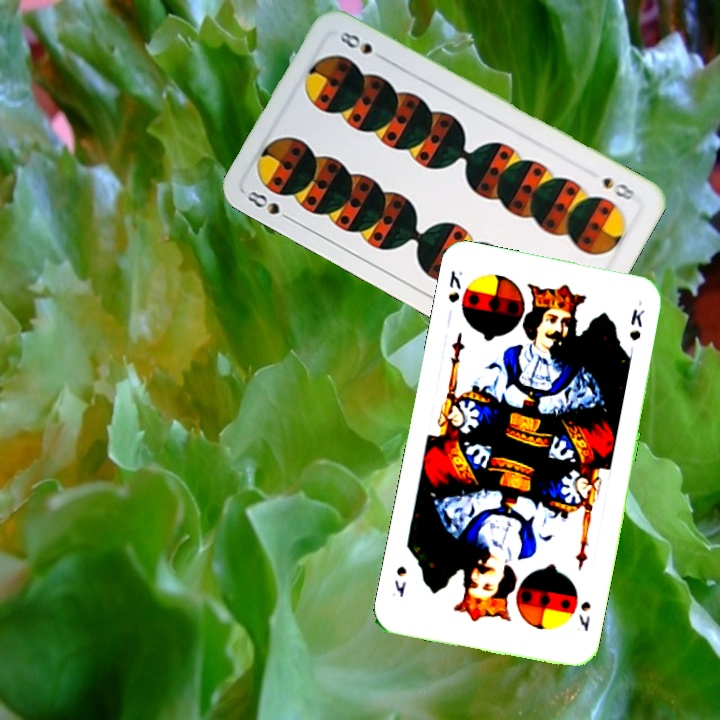S8: (241, 187, 296, 225), (598, 173, 639, 203)
SK: (444, 266, 465, 305), (575, 597, 593, 635)
